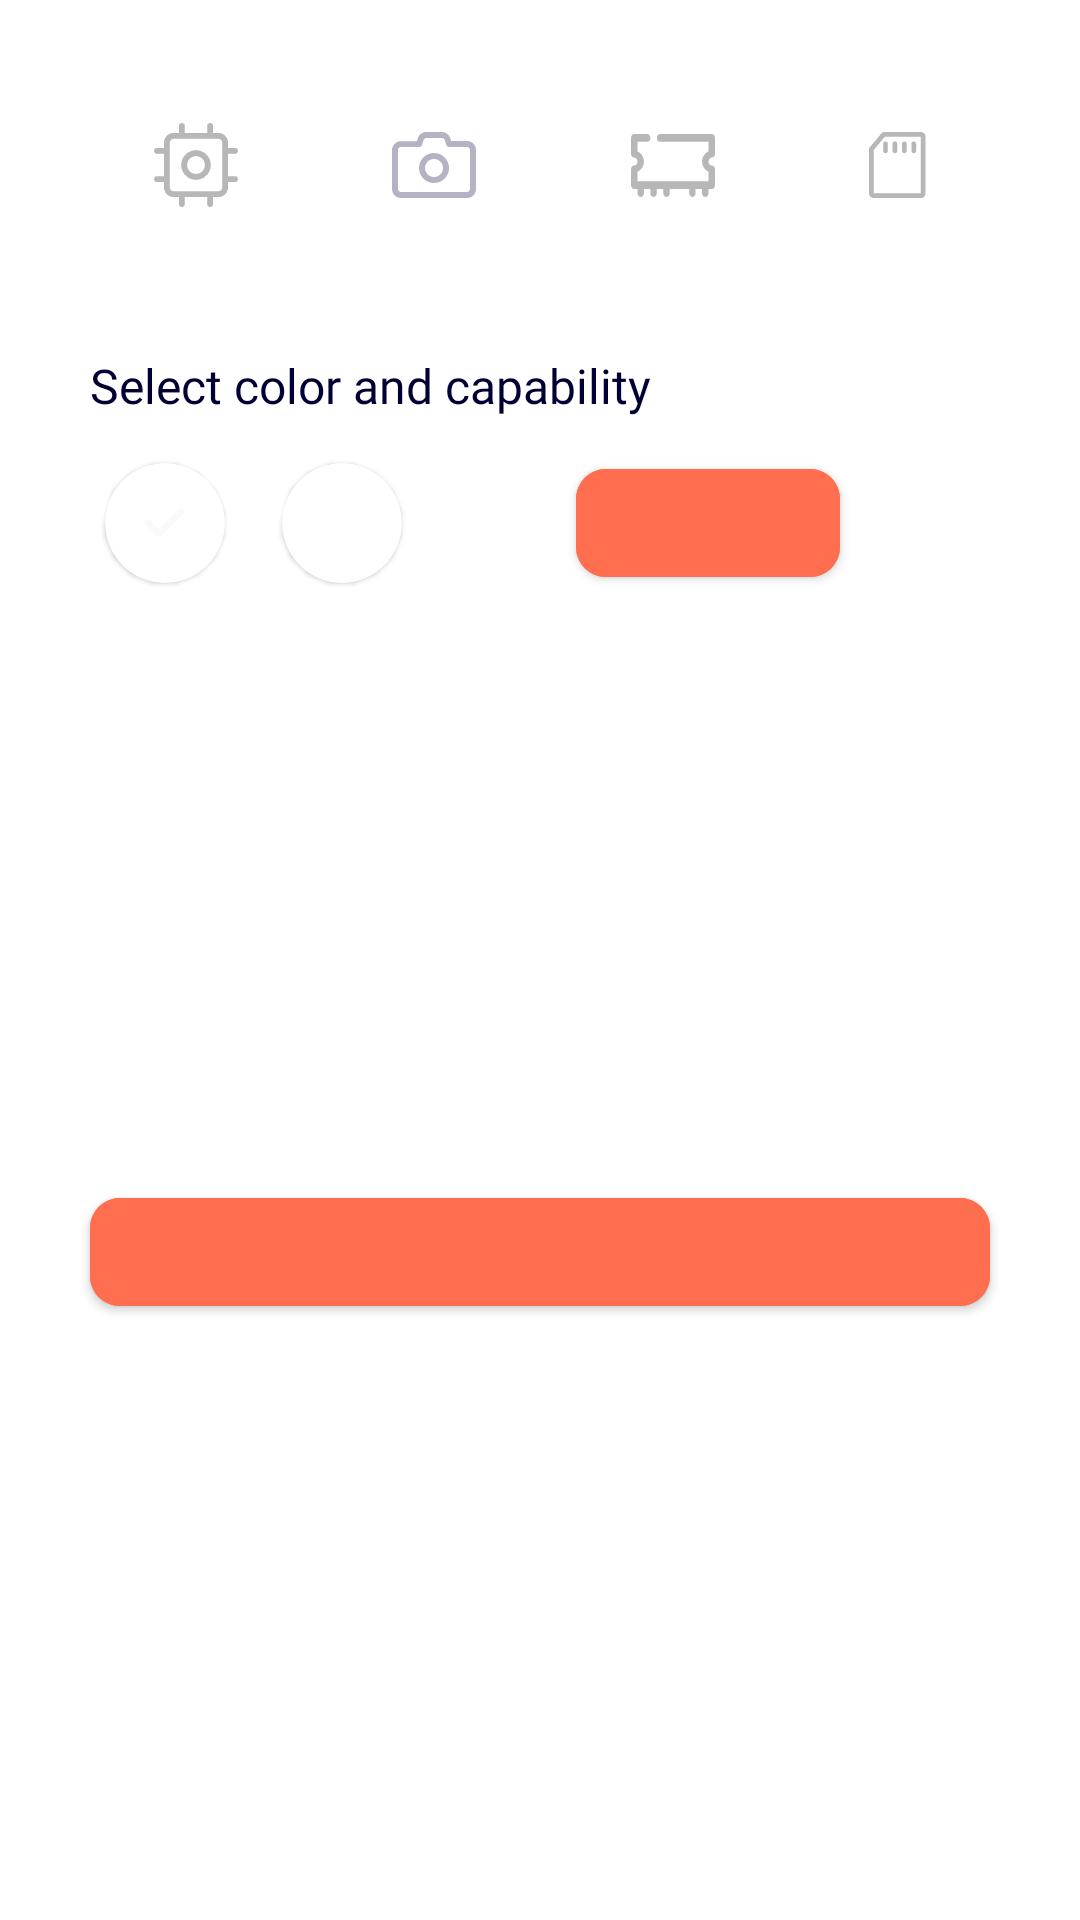

Where to tap for icons on this 1080w x 1920h app screen, as [x,y]:
camera: [434,165]
cpu: [196,165]
